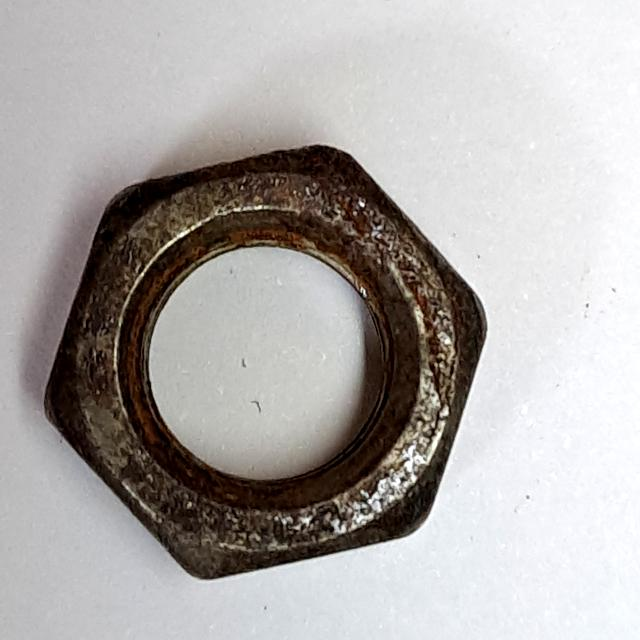Rust: (32, 139, 496, 594)
